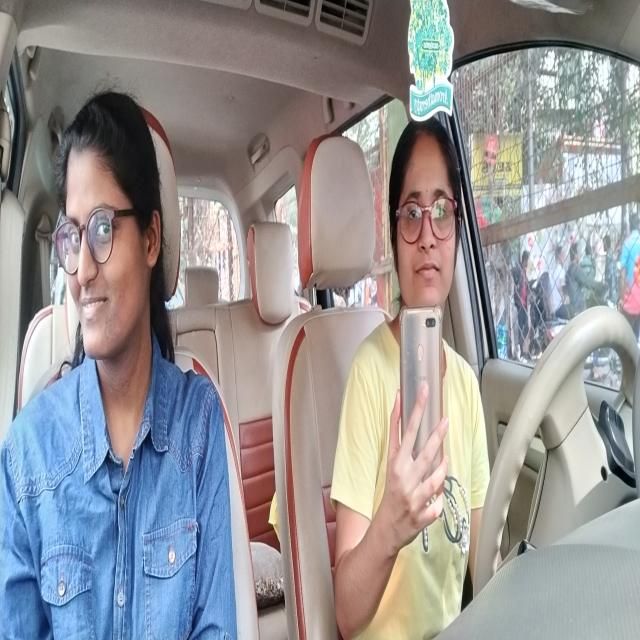mobile: (393, 300, 452, 479)
person: (58, 96, 167, 369), (386, 119, 466, 312)
